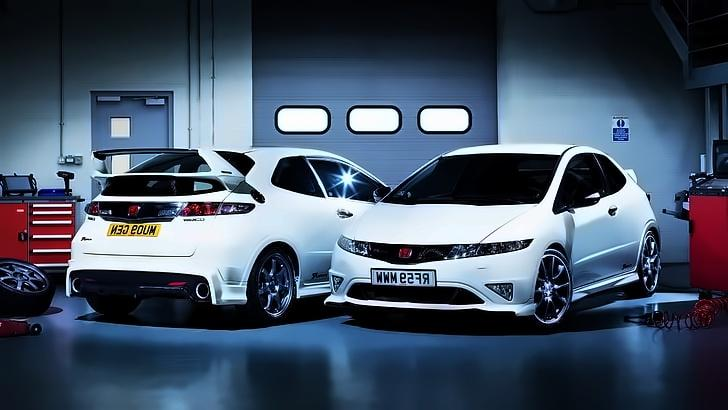Car boot: (77, 181, 233, 258)
Car hood: (341, 201, 544, 249)
Driver-s door - -F-R-: (262, 149, 400, 299)
Fender - -F-L-: (490, 199, 578, 312)
Fender - -R-R-: (230, 139, 317, 285)
Front bumper: (325, 247, 542, 321)
Headlight - -L-: (446, 238, 535, 259)
Headlight - -R-: (335, 235, 373, 261)
Passenger-s door - -F-L-: (554, 139, 640, 310)
Rear bumper: (67, 244, 258, 321)
Rear light - -L-: (84, 199, 107, 221)
Rear light - -R-: (175, 201, 256, 219)
Side bumper - -L-: (565, 266, 646, 309)
Side bumper - -R-: (286, 268, 335, 304)
Side mirror - -L-: (557, 188, 601, 216)
